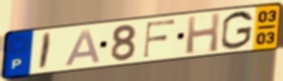8: (109, 23, 139, 62)
A: (63, 28, 103, 68)
F: (142, 18, 177, 60)
G: (220, 10, 255, 51)
H: (184, 11, 222, 56)
I: (37, 31, 54, 72)
